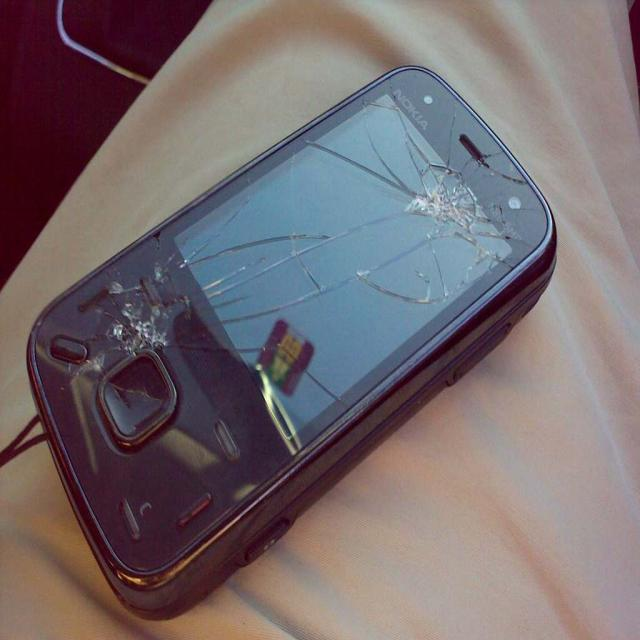Mobile-phone: (21, 66, 562, 624)
